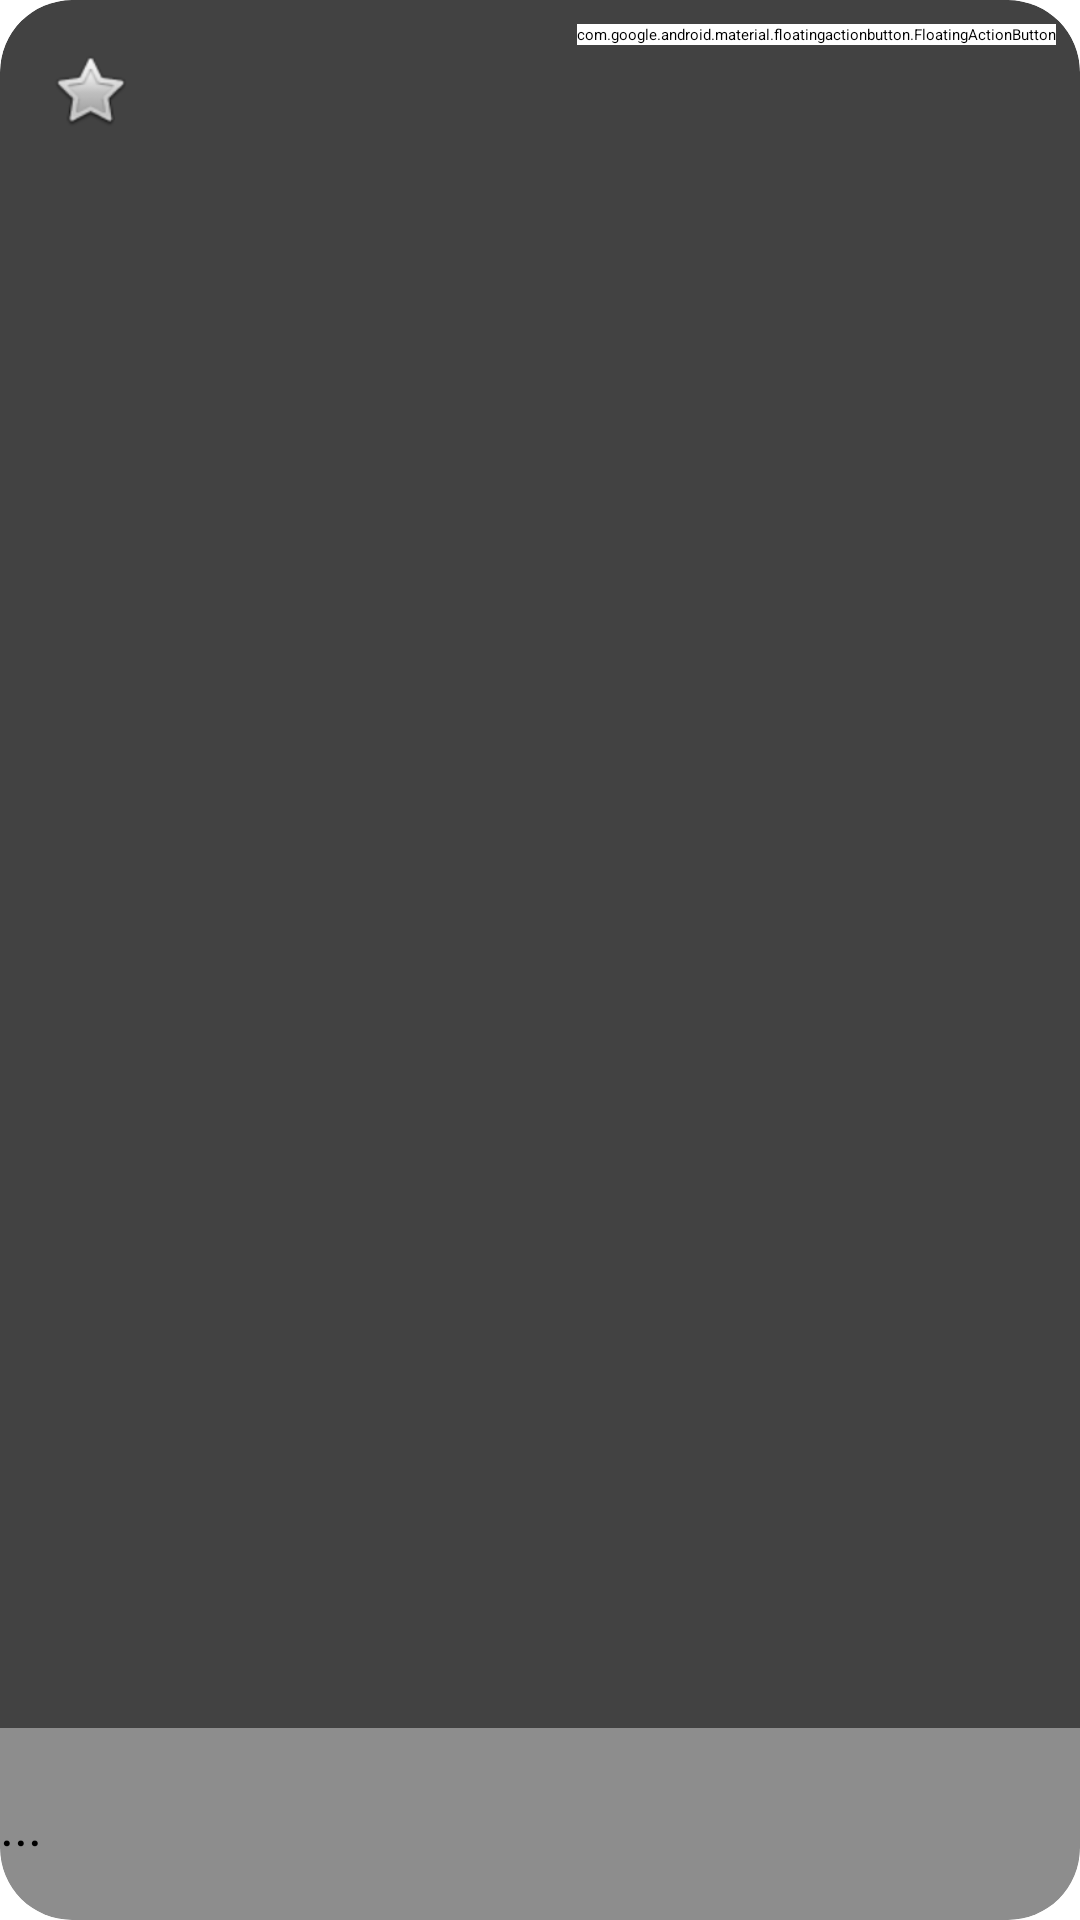

Screen size 1080x1920. Icon name, then its center in pixels as [x,y]:
Favorite: [91,90]
